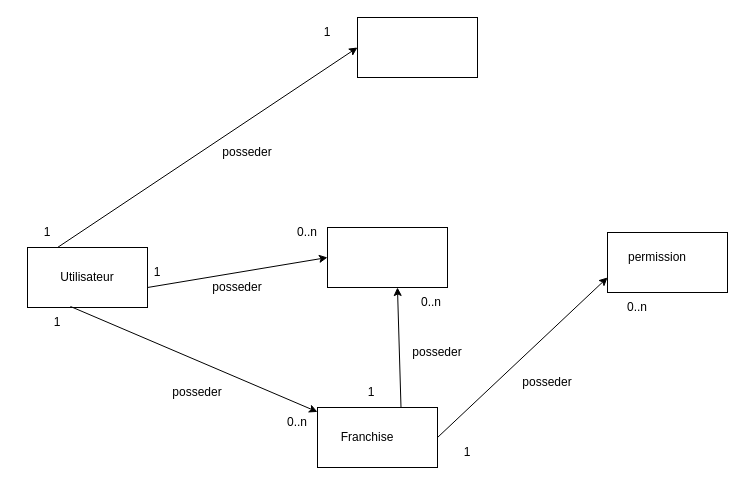
This 745x485 diagram has some shape labels left out. The shapes that lost their labels are listed below. From the top down, each one's box as (x1, y1, x2, y2) in pixels, then its label:
(356, 16, 478, 78): Droit
(326, 226, 448, 288): boutique
